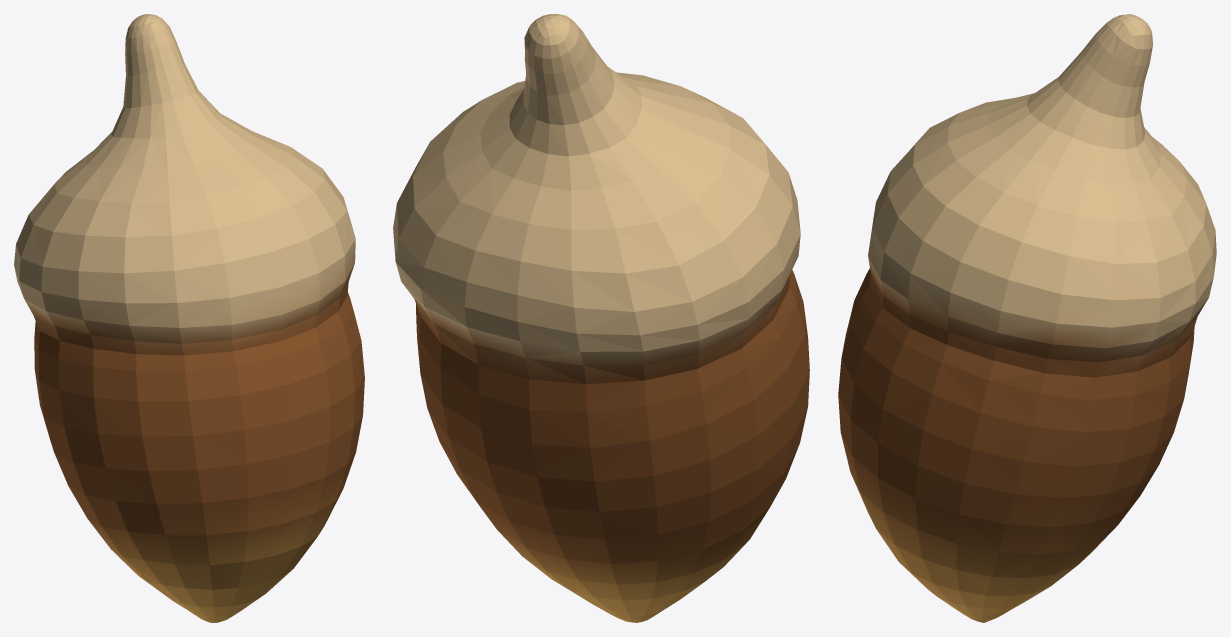
The model's file is acorn3.OBJ.
3 renders of one model, left to right at view 1: azimuth 30°, elevation 25°; view 2: azimuth 150°, elevation 25°; view 3: azimuth 270°, elevation 25°, orthographic. The views are drawn at different scales.
Visible parts, largest first — view 1: Group35816; view 2: Group35816; view 3: Group35816.
Boxes of the visible parts, bbox=[...] form: Group35816: bbox=[14, 14, 364, 622]; Group35816: bbox=[393, 14, 809, 622]; Group35816: bbox=[838, 14, 1216, 622].
Bounding box in the file's own units: 204 × 360 × 204.
1 material, 1 textured.
